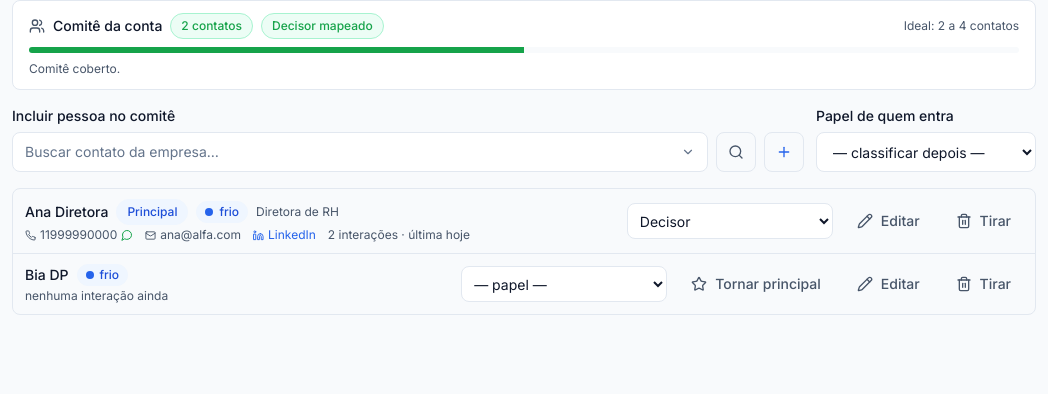
Test: AbaContatos › o erro da API aparece na tela
Select "Compras/Financeiro" in the dropdown named "Papel de Bia DP": (564, 284) [461,266,667,302]
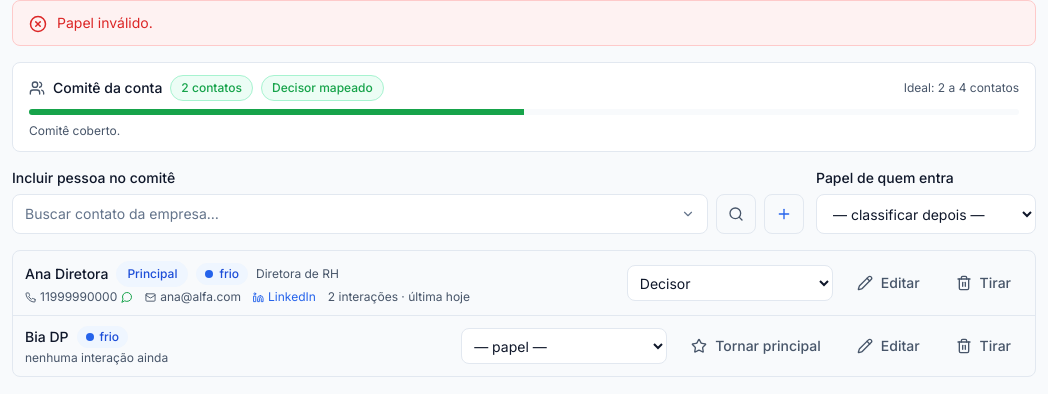
Result: the text "Papel inválido." is shown at [57,14,153,31]
